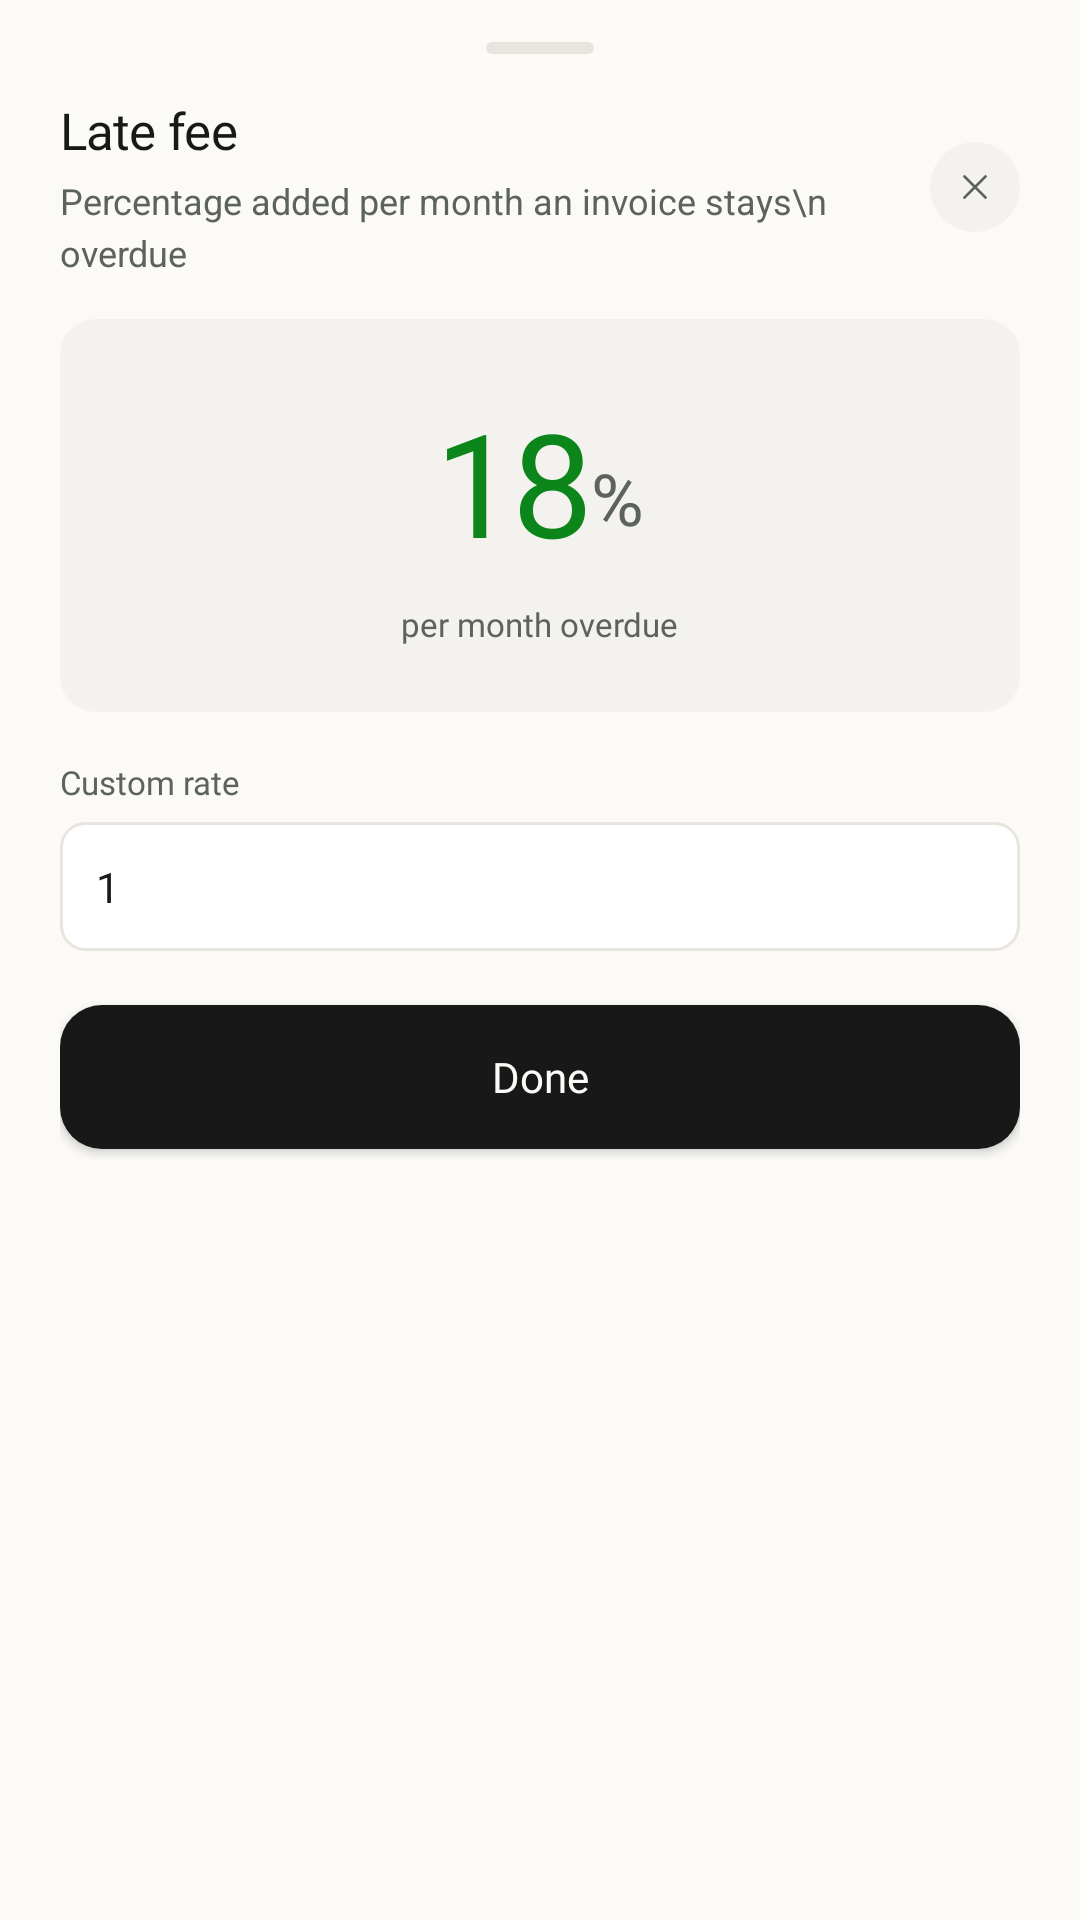

Point at icon controls on the screen. Image size 1080px x 1920px, points as (x=x, y=y).
close: (x=975, y=187)
